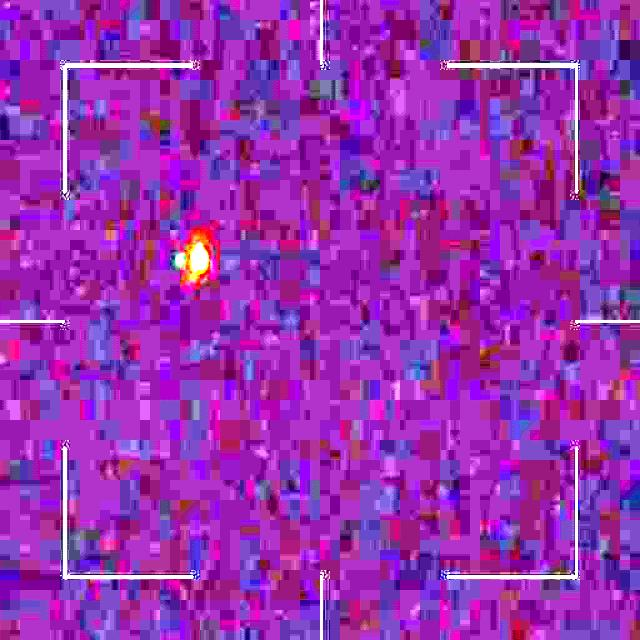bird: (172, 239, 210, 290)
